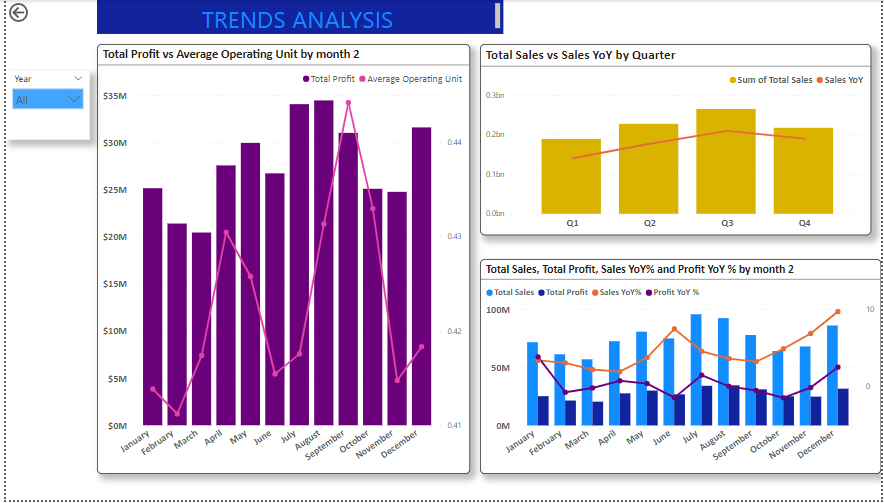

The page's visual inventory and layout, read from the dashboard file:
{"tool":"powerbi","page":{"name":"Trends","canvas":[1400,800],"ordinal":5},"visuals":[{"type":"lineClusteredColumnComboChart","title":" Total Sales vs Sales YoY by Quarter","fields":{"Category":["calendertable.Quarter"],"Y2":["Data Sales Adidas.Sales YoY"],"Y":["Sum(Data Sales Adidas.Total Sales)"]},"box":[758.4,70.4,625.6,305.6],"z":0},{"type":"lineStackedColumnComboChart","title":"Total Profit vs Average Operating Unit by month 2","fields":{"Y":["Data Sales Adidas.total profit"],"Y2":["Data Sales Adidas.AVG OPERATING UNIT"],"Category":["calendertable.month 2"]},"box":[145.6,70.4,596.8,688],"z":1000},{"type":"lineClusteredColumnComboChart","fields":{"Category":["calendertable.month 2"],"Y":["Sum(Data Sales Adidas.Total Sales)","Data Sales Adidas.total profit"],"Y2":["Data Sales Adidas.Sales YoY%","Data Sales Adidas.Profit YoY %"]},"box":[758.4,414.4,641.6,344],"z":2000},{"type":"slicer","fields":{"Values":["calendertable.Year"]},"box":[0,113.6,134.4,110.4],"z":3000},{"type":"shape","box":[145.6,0,649.6,54.4],"z":4000},{"type":"textbox","box":[145.6,0,649.6,54.4],"z":5000},{"type":"actionButton","box":[0,0,54.4,40],"z":6000}]}

Visuals, with their boxes in screenshot pixels (x1, y1, x2, y2), scaled from the page's 1400x800 canvas onto the 884x503 screenshot:
" Total Sales vs Sales YoY by Quarter" lineClusteredColumnComboChart: (left=479, top=44, right=874, bottom=236)
"Total Profit vs Average Operating Unit by month 2" lineStackedColumnComboChart: (left=92, top=44, right=469, bottom=477)
lineClusteredColumnComboChart - calendertable.month 2 x Sum(Data Sales Adidas.Total Sales): (left=479, top=261, right=883, bottom=477)
slicer - calendertable.Year: (left=0, top=71, right=85, bottom=141)
shape: (left=92, top=0, right=502, bottom=34)
textbox: (left=92, top=0, right=502, bottom=34)
actionButton: (left=0, top=0, right=34, bottom=25)
